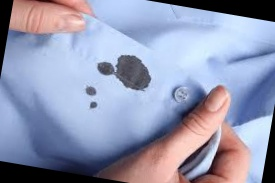wine: (95, 50, 160, 92), (82, 79, 107, 99), (84, 98, 103, 116)
